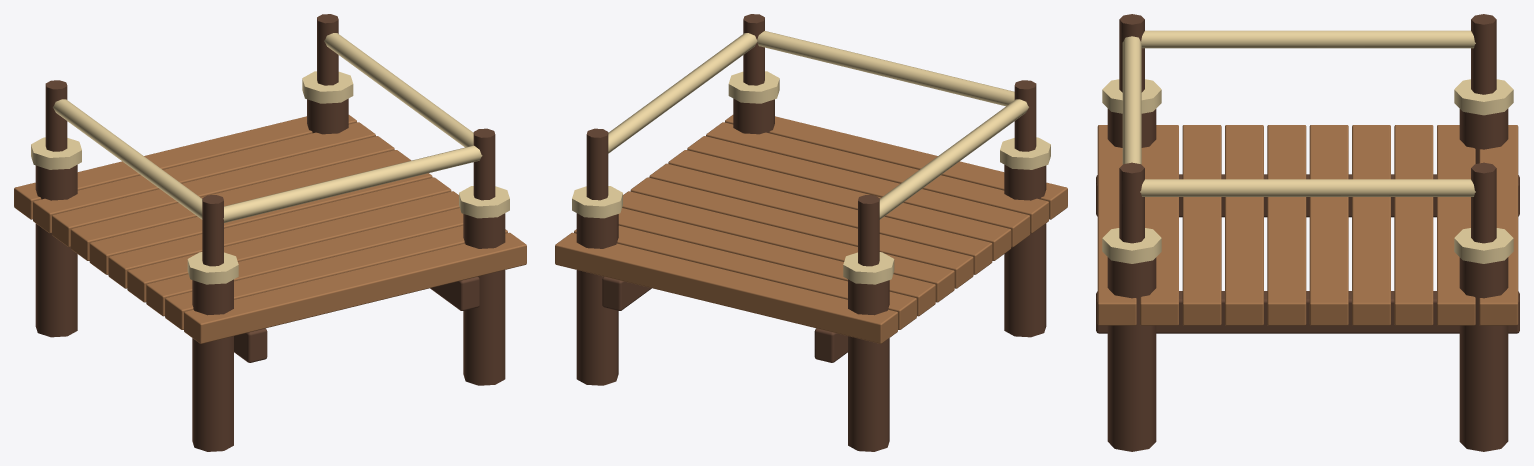
File: dock-lookout.glb
The picture shows the model from 3 angles, left to right: view 1: azimuth 30°, elevation 25°; view 2: azimuth 150°, elevation 25°; view 3: azimuth 270°, elevation 25°; orthographic projection. The views are drawn at different scales.
Visible parts, largest first — view 1: deck-plank-9, deck-plank-5, deck-plank-2, deck-plank-1, pile--0.83-0.83, deck-plank-6, pile-0.83-0.83, pile--0.83--0.83, deck-plank-7, deck-plank-3, deck-plank-8, deck-plank-0 (+15 smaller); view 2: deck-plank-0, deck-plank-4, deck-plank-5, deck-plank-7, deck-plank-6, deck-plank-8, pile--0.83--0.83, deck-plank-3, pile-0.83--0.83, pile--0.83-0.83, deck-plank-2, deck-plank-1 (+15 smaller); view 3: pile-0.83--0.83, pile-0.83-0.83, deck-plank-2, deck-plank-4, deck-plank-5, deck-plank-7, deck-plank-3, deck-plank-6, rail-x--0.83, rail-x-0.83, deck-plank-1, deck-plank-8 (+15 smaller).
Boxes of the visible parts, x1,y1,x2,y2 form: deck-plank-9: [184, 232, 526, 343]; deck-plank-5: [108, 177, 451, 288]; deck-plank-2: [52, 136, 394, 247]; deck-plank-1: [33, 122, 375, 233]; pile--0.83-0.83: [192, 279, 233, 451]; deck-plank-6: [127, 191, 459, 302]; pile-0.83-0.83: [463, 213, 505, 385]; pile--0.83--0.83: [35, 164, 77, 337]; deck-plank-7: [146, 208, 463, 316]; deck-plank-3: [70, 150, 411, 260]; deck-plank-8: [165, 225, 507, 329]; deck-plank-0: [14, 115, 356, 219]; deck-plank-0: [555, 232, 897, 343]; deck-plank-4: [630, 177, 973, 288]; deck-plank-5: [649, 163, 992, 274]; deck-plank-7: [687, 136, 1029, 247]; deck-plank-6: [668, 150, 1011, 260]; deck-plank-8: [706, 122, 1048, 233]; pile--0.83--0.83: [848, 279, 889, 451]; deck-plank-3: [622, 191, 954, 302]; pile-0.83--0.83: [576, 213, 618, 385]; pile--0.83-0.83: [1004, 164, 1046, 337]; deck-plank-2: [618, 208, 935, 316]; deck-plank-1: [574, 225, 916, 329]; pile-0.83--0.83: [1459, 257, 1508, 451]; pile-0.83-0.83: [1107, 257, 1156, 451]; deck-plank-2: [1394, 125, 1433, 325]; deck-plank-4: [1309, 125, 1348, 325]; deck-plank-5: [1267, 125, 1306, 325]; deck-plank-7: [1182, 125, 1221, 325]; deck-plank-3: [1352, 125, 1390, 325]; deck-plank-6: [1225, 125, 1263, 325]; rail-x--0.83: [1141, 30, 1475, 48]; rail-x-0.83: [1140, 179, 1475, 196]; deck-plank-1: [1437, 125, 1475, 325]; deck-plank-8: [1140, 125, 1178, 325].
Bounding box in the file's own units: 2 × 1.42 × 2.
